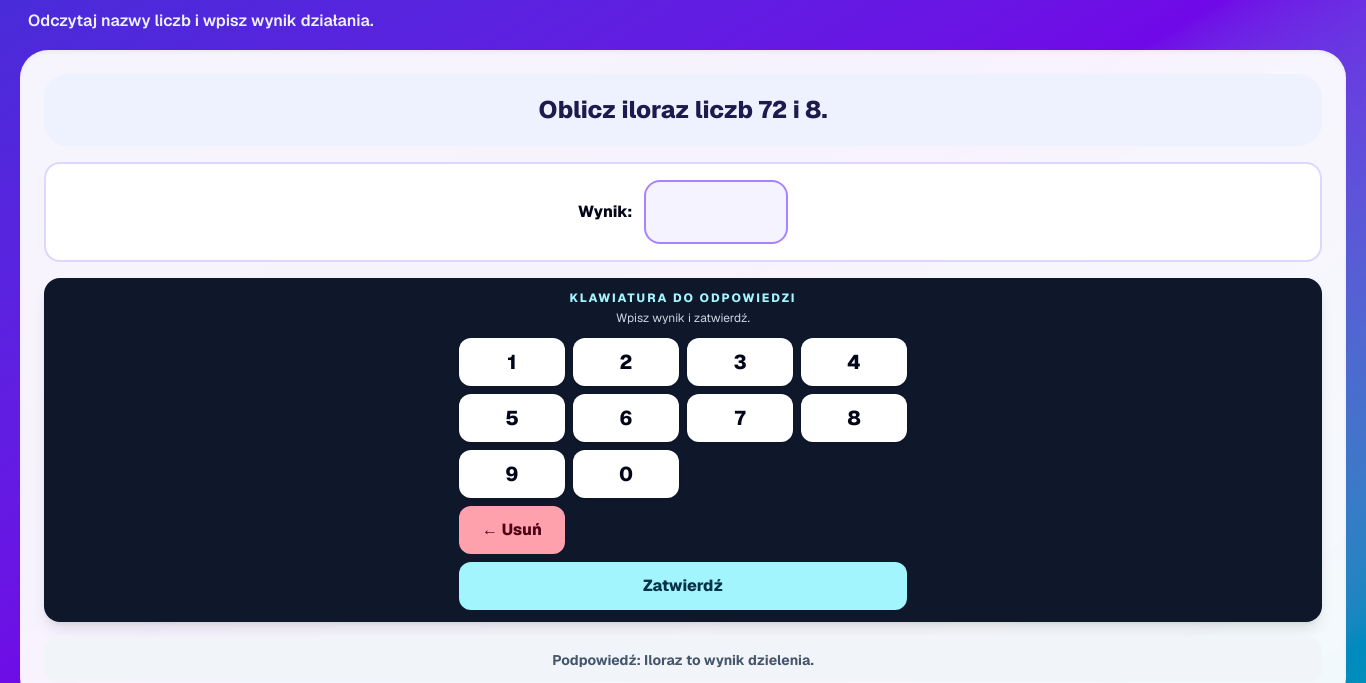
it: Grade4MulDivLessonLab › nie zalicza pustego pola
Click the button "Zatwierdź" at (683, 586), box [459, 562, 907, 610]
(page scrolled)
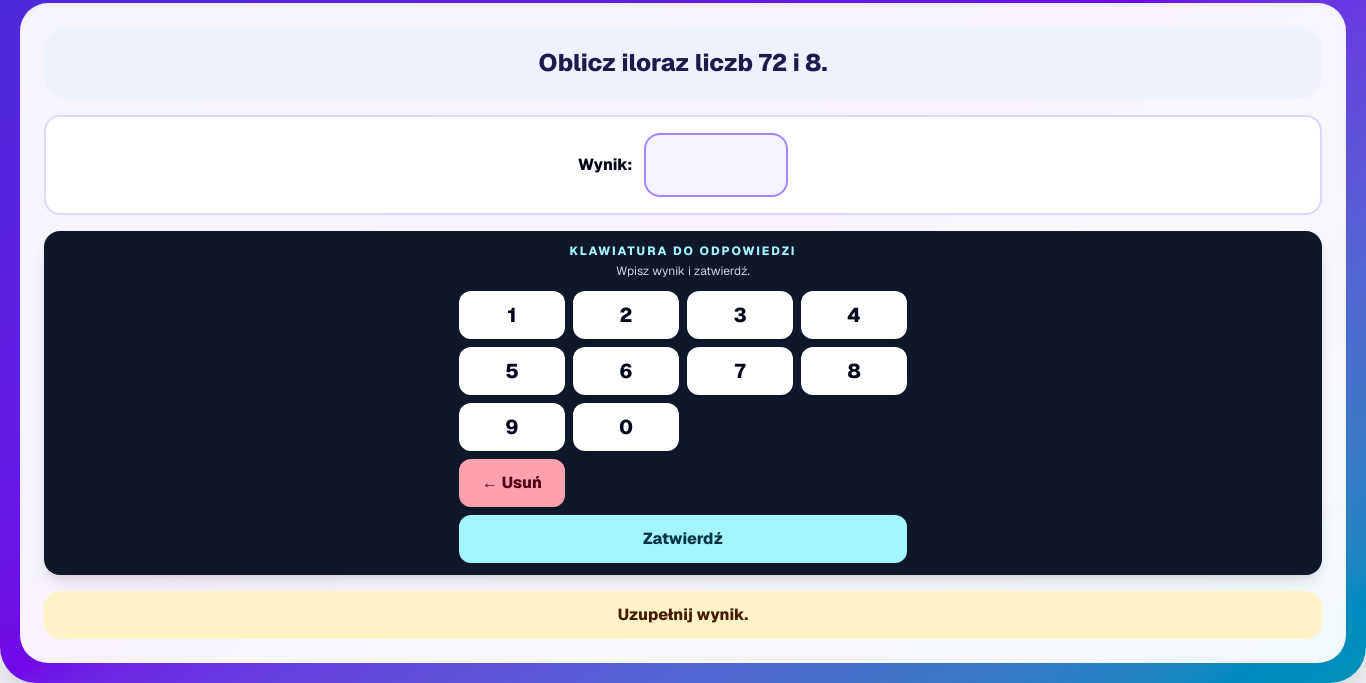
Expected: the message shows "Uzupełnij wynik", [618, 604, 748, 625]
